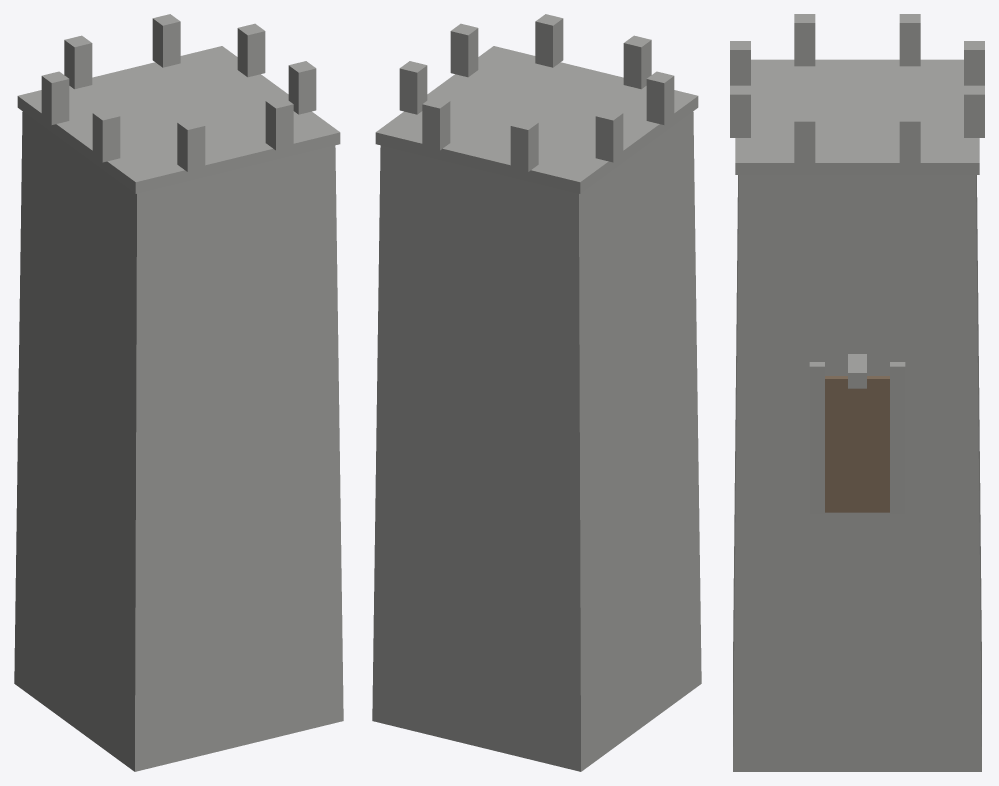
Rendered from wall_tower.glb.
3 renders of one model, left to right at view 1: azimuth 30°, elevation 25°; view 2: azimuth 150°, elevation 25°; view 3: azimuth 270°, elevation 25°, orthographic. The views are drawn at different scales.
Visible parts, largest first — view 1: wall_tower; view 2: wall_tower; view 3: wall_tower.
Boxes of the visible parts, left/top/right/bottom form: wall_tower: left=14, top=14, right=343, bottom=771; wall_tower: left=372, top=14, right=701, bottom=771; wall_tower: left=730, top=14, right=984, bottom=771.
Size of the model in its own units: 3.05 by 7.5 by 2.66.
